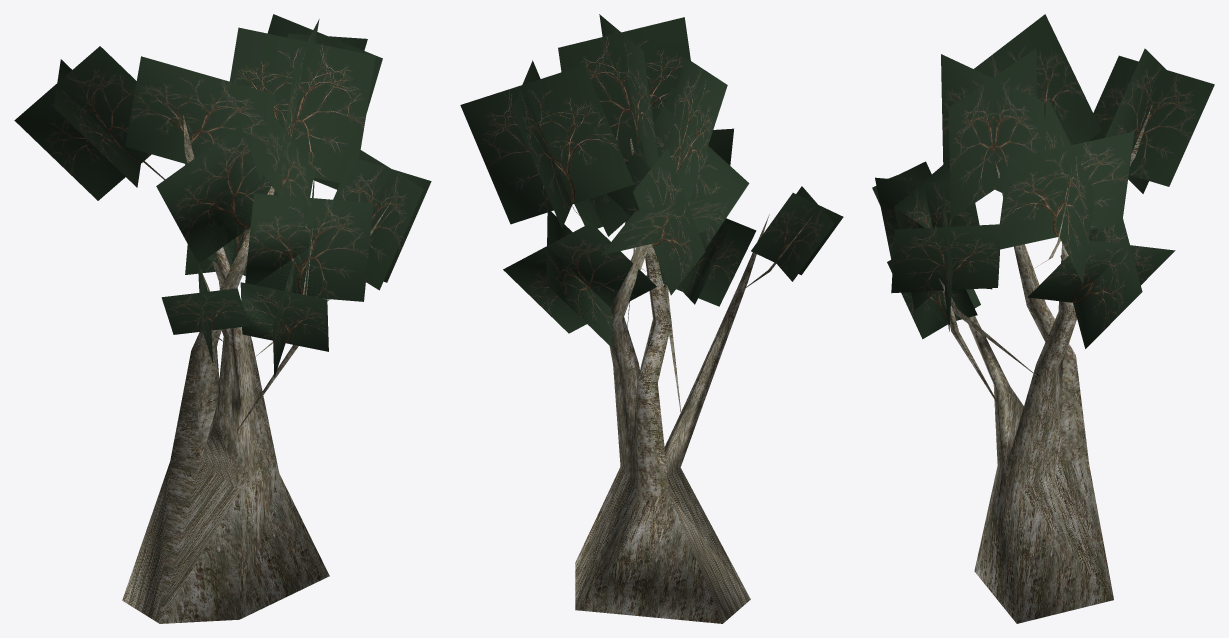
Rendered from decd_hollytreebranches_a1_l2.fbx.
3 renders of one model, left to right at view 1: azimuth 30°, elevation 25°; view 2: azimuth 150°, elevation 25°; view 3: azimuth 270°, elevation 25°, orthographic. The views are drawn at different scales.
Parts seen in each view (by area): view 1: mesh_node; view 2: mesh_node; view 3: mesh_node.
Part boxes in pixels (x1,y1,x2,y2): mesh_node: [14, 14, 431, 623]; mesh_node: [460, 14, 843, 623]; mesh_node: [872, 14, 1214, 623].
Bounding box in the file's own units: 9.85 × 17.33 × 10.01.
Materials: 2 (2 with a texture image).
